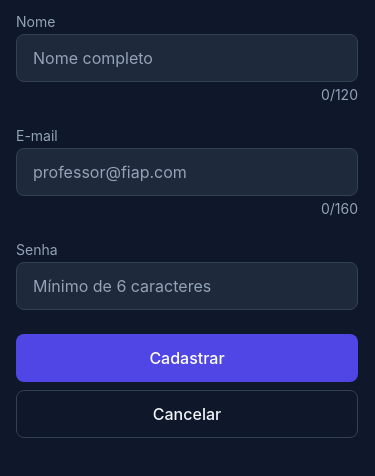
Test case: criação › exige nome, e-mail e senha
Step 1. Click the button "Cadastrar" → (187, 358), box [16,334,358,382]
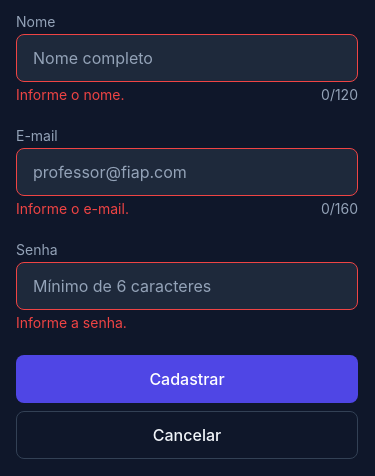
Expected: the text "Informe o nome." is shown, [16,86,124,103]
Expected: the text "Informe o e-mail." is shown, [16,200,129,217]
Expected: the text "Informe a senha." is shown, [16,314,127,331]
